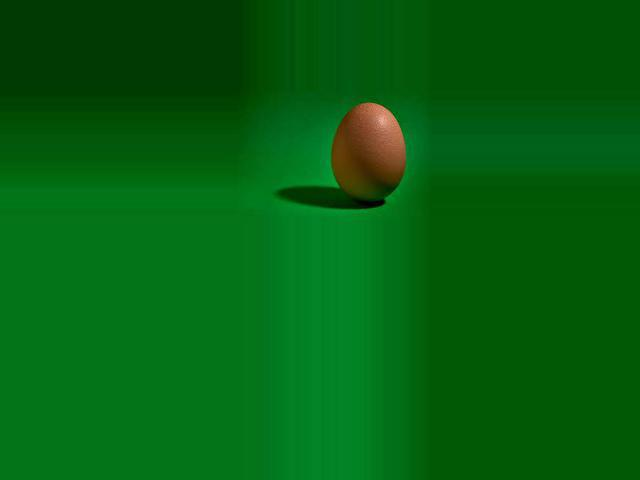egg: (330, 103, 406, 202)
